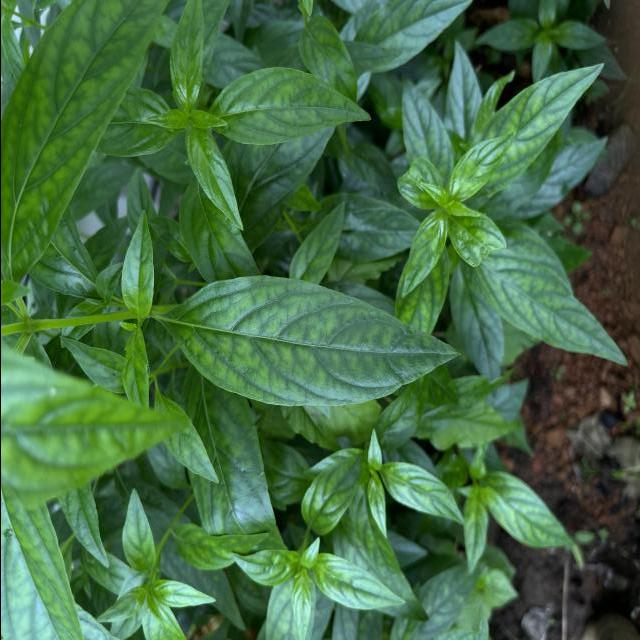Andrographis paniculata: (160, 272, 458, 411), (469, 230, 631, 369), (463, 61, 605, 208), (208, 64, 372, 148), (478, 468, 579, 552), (183, 126, 247, 232), (380, 456, 466, 524), (298, 451, 367, 535), (311, 552, 406, 612), (284, 201, 344, 283), (448, 130, 516, 200), (400, 206, 448, 300), (118, 205, 154, 322), (228, 546, 301, 588)
